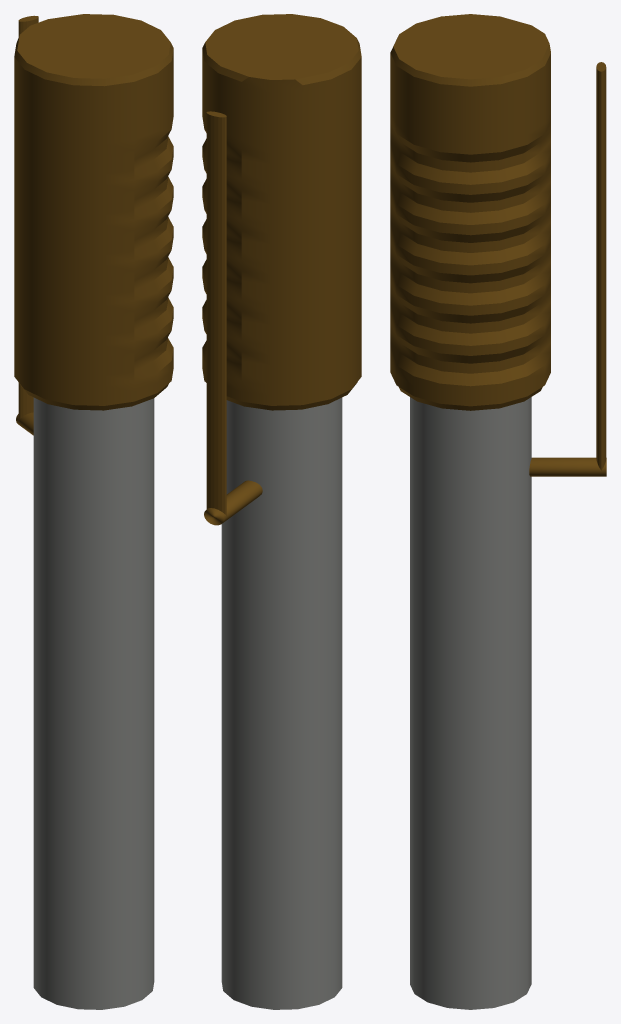
Rendered from lever.fbx.
3 renders of one model, left to right at view 1: azimuth 30°, elevation 25°; view 2: azimuth 150°, elevation 25°; view 3: azimuth 270°, elevation 25°, orthographic.
Parts seen in each view (by area): view 1: Cylinder, Cylinder.001, Cylinder.003; view 2: Cylinder, Cylinder.001, Cylinder.003, Cylinder.002; view 3: Cylinder, Cylinder.001, Cylinder.003, Cylinder.002.
Boxes of the visible parts, x1,y1,x2,y2 form: Cylinder: (33, 397, 154, 1009); Cylinder.001: (14, 14, 173, 410); Cylinder.003: (18, 15, 38, 420); Cylinder: (221, 397, 342, 1009); Cylinder.001: (202, 14, 361, 410); Cylinder.003: (206, 111, 226, 515); Cylinder.002: (204, 480, 262, 525); Cylinder: (410, 397, 531, 1009); Cylinder.001: (390, 14, 550, 410); Cylinder.003: (596, 62, 606, 470); Cylinder.002: (529, 457, 606, 476).
Bounding box in the file's own units: 132 × 850 × 178.
